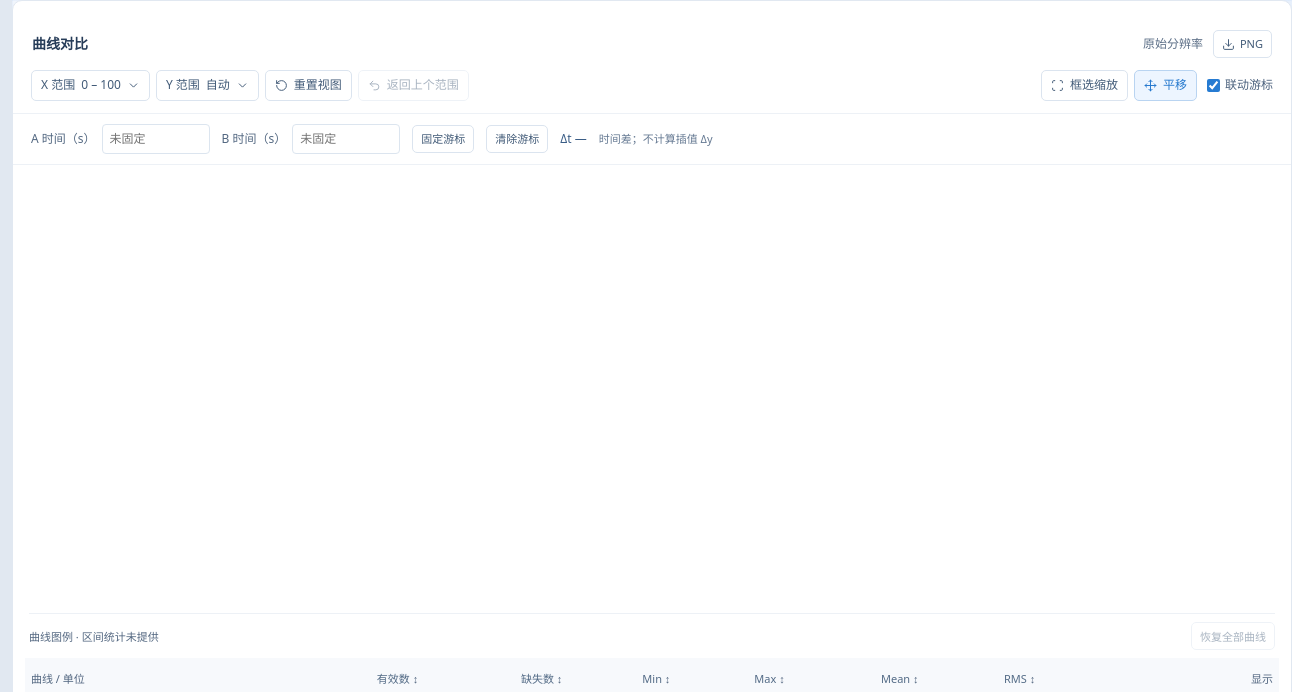
Test: keeps fixed A/B time cursors separate from gap samples and validates their bounds
The width and height of the screenshot is (1292, 692).
Type "35" into the number field labelled "A 时间（s）".
click(156, 139); type("35")  # box [102, 124, 210, 154]
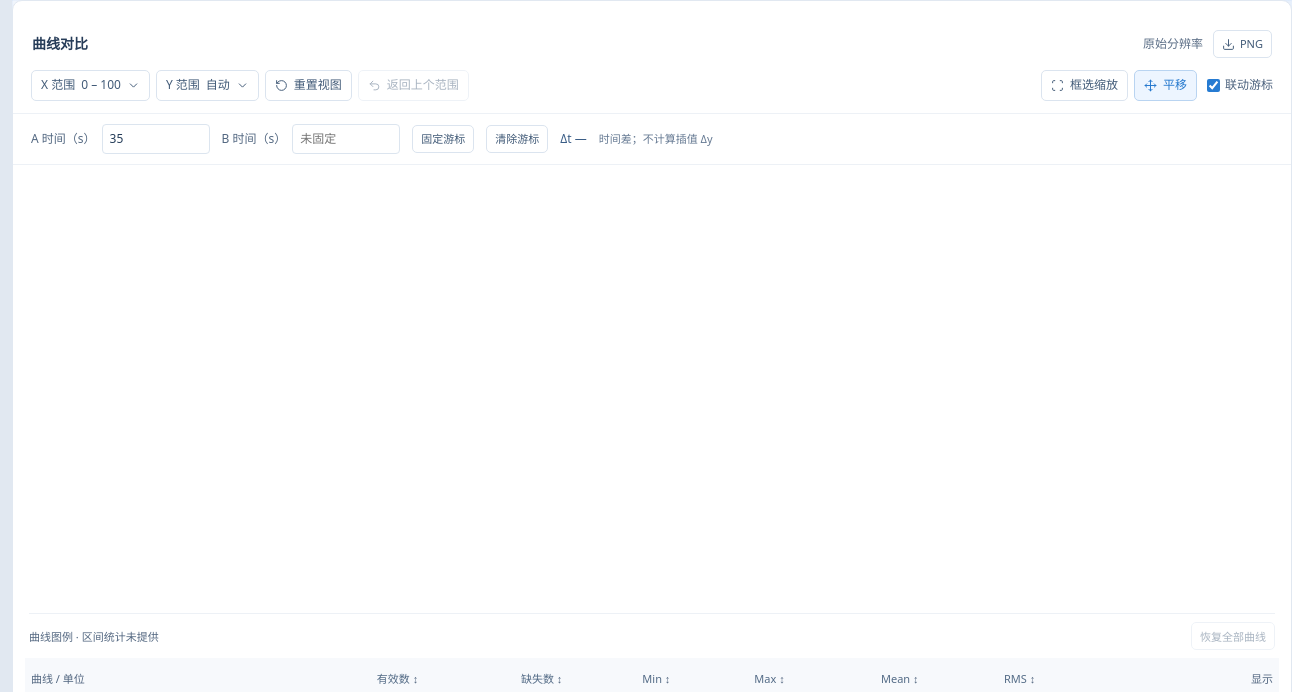
Type "65" into the number field labelled "B 时间（s）".
click(346, 139); type("65")  # box [292, 124, 400, 154]
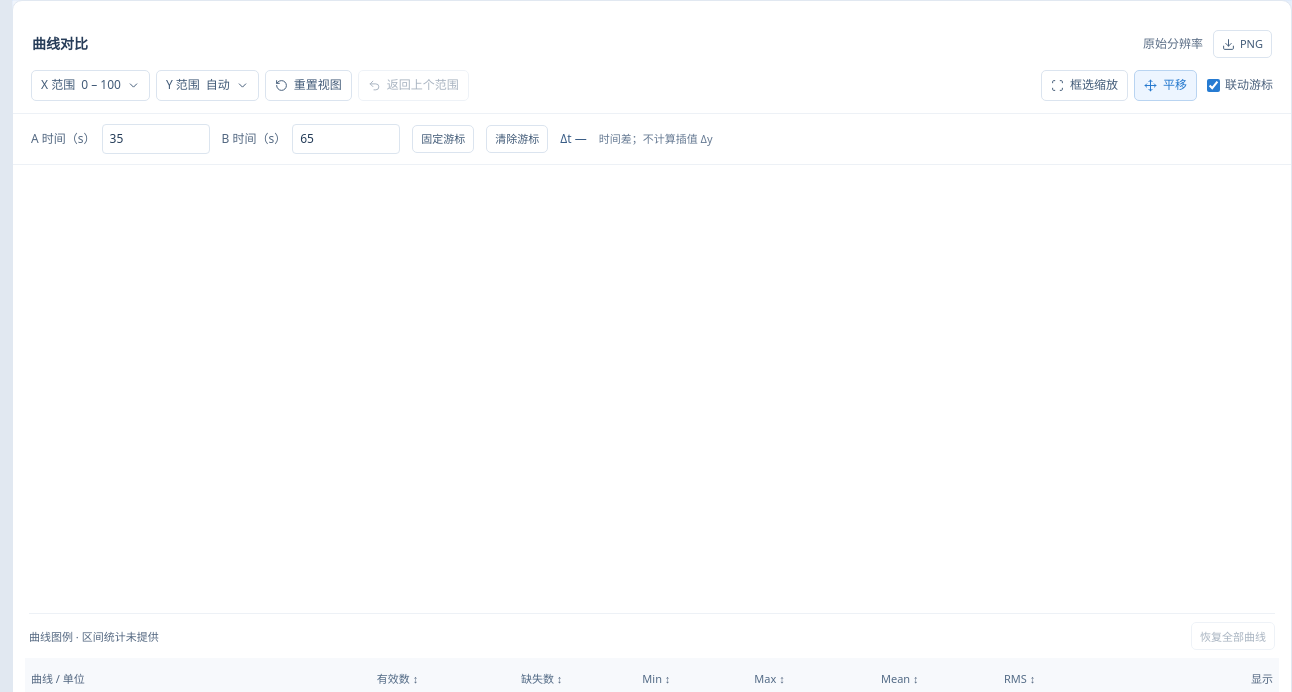
Click the button "固定游标".
click(443, 139)  # box [412, 125, 474, 153]
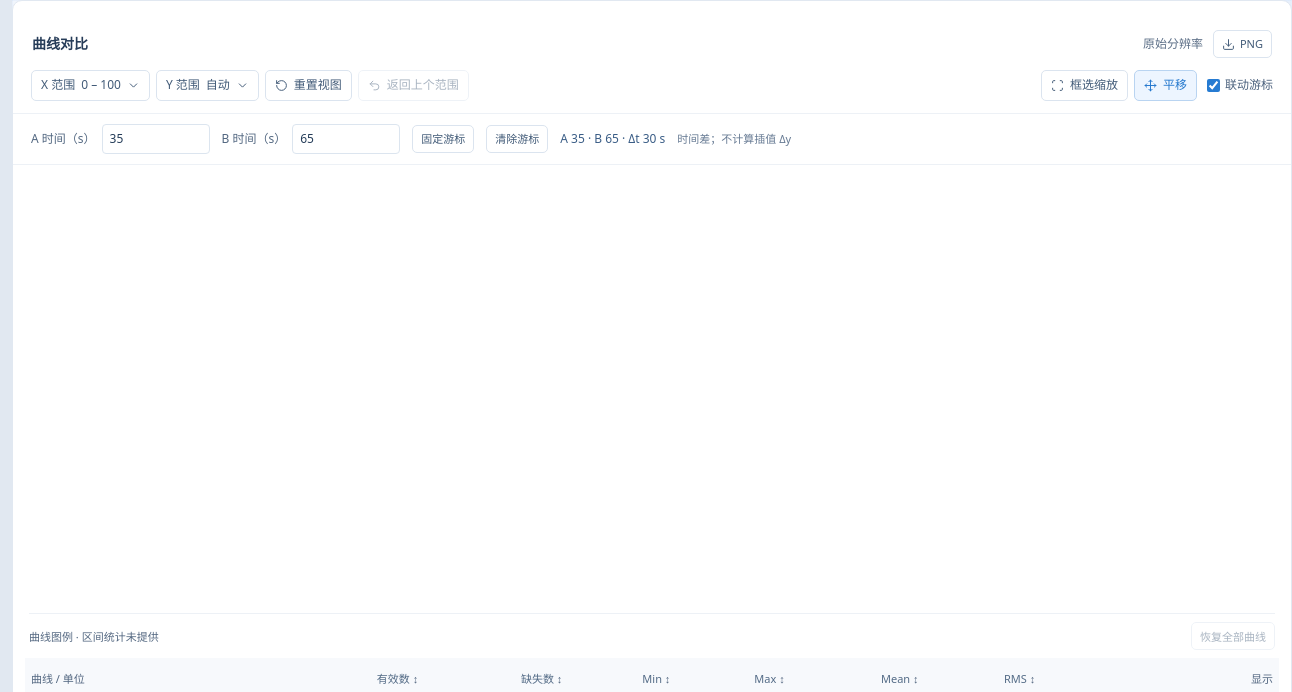
Check: the text named "游标时间差" shows "Δt 30 s", box [560, 130, 665, 147]
Replace the text in the number field labelled "B 时间（s）" with "101" at (346,139), box [292, 124, 400, 154]
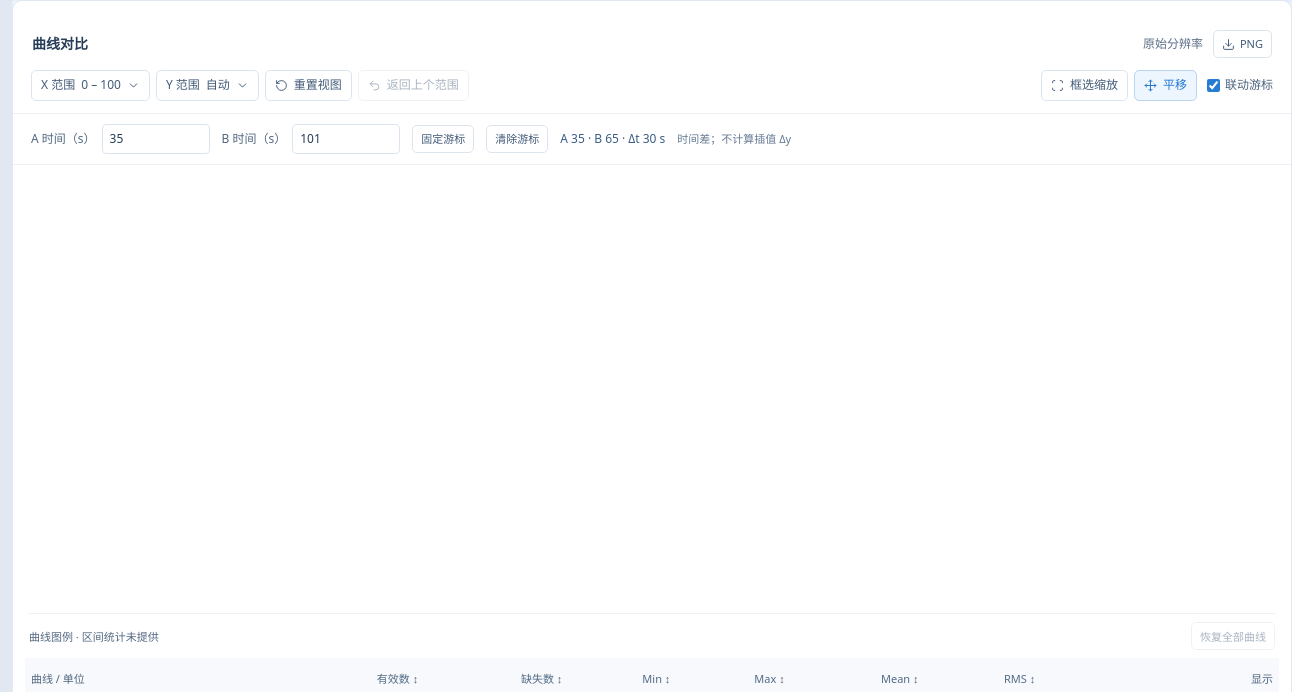
Click the button "固定游标".
click(443, 139)  # box [412, 125, 474, 153]
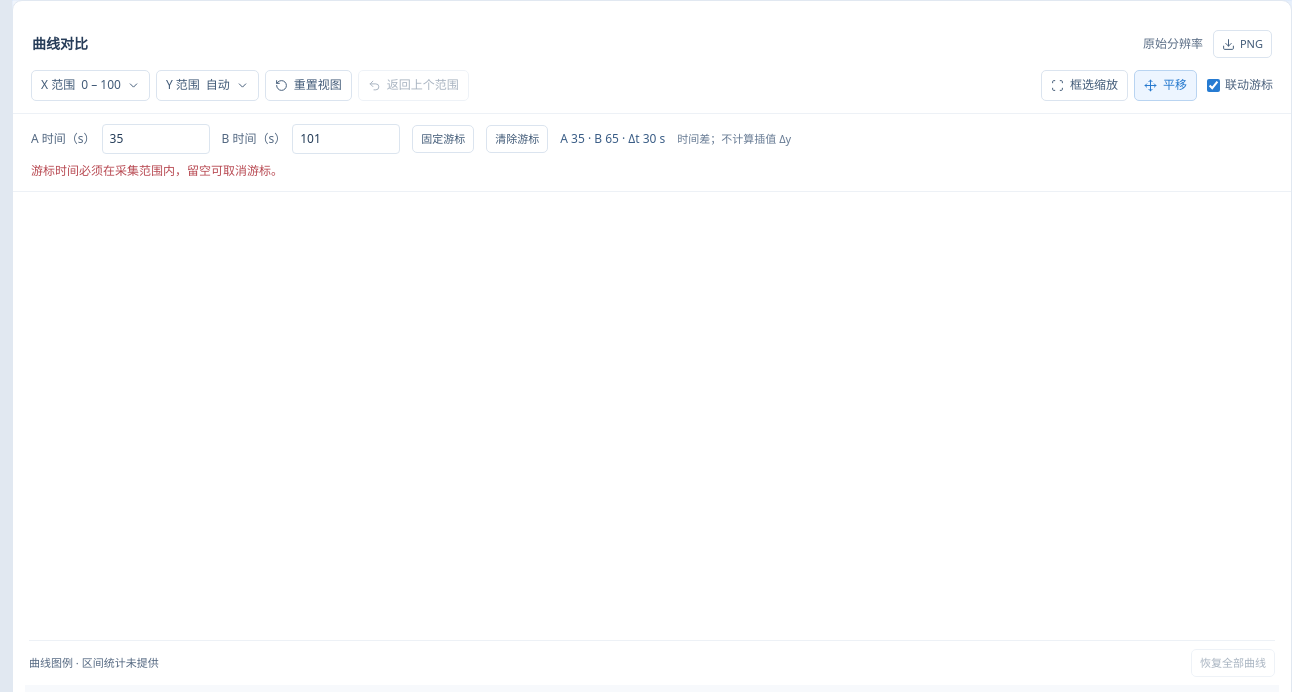
Check: the text named "游标时间差" shows "Δt 30 s", box [560, 130, 665, 147]
Check: the message shows "采集范围内", box [31, 162, 283, 179]
Click the button "清除游标".
click(517, 139)  # box [486, 125, 548, 153]
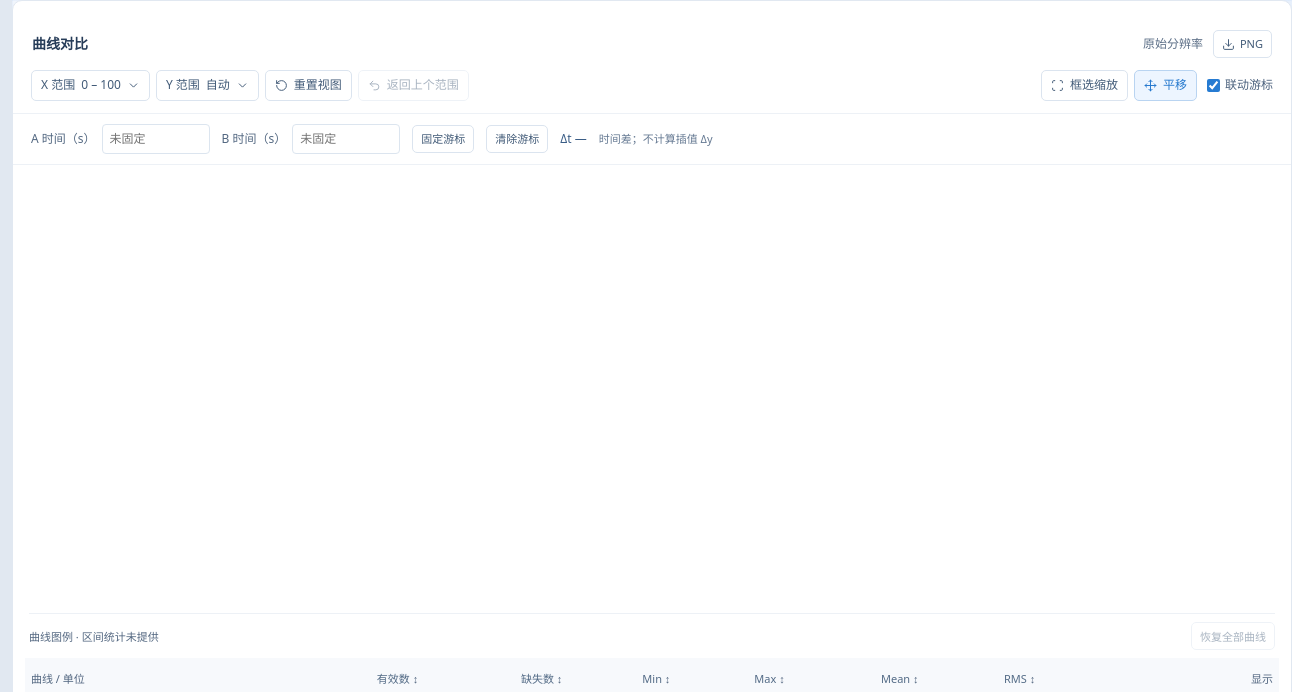
Check: the text named "游标时间差" reads "Δt —", box [560, 130, 587, 147]
